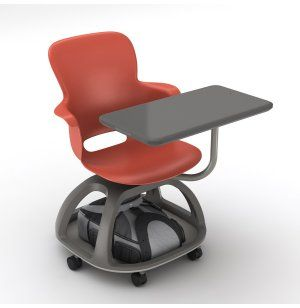desk: (38, 18, 280, 296)
